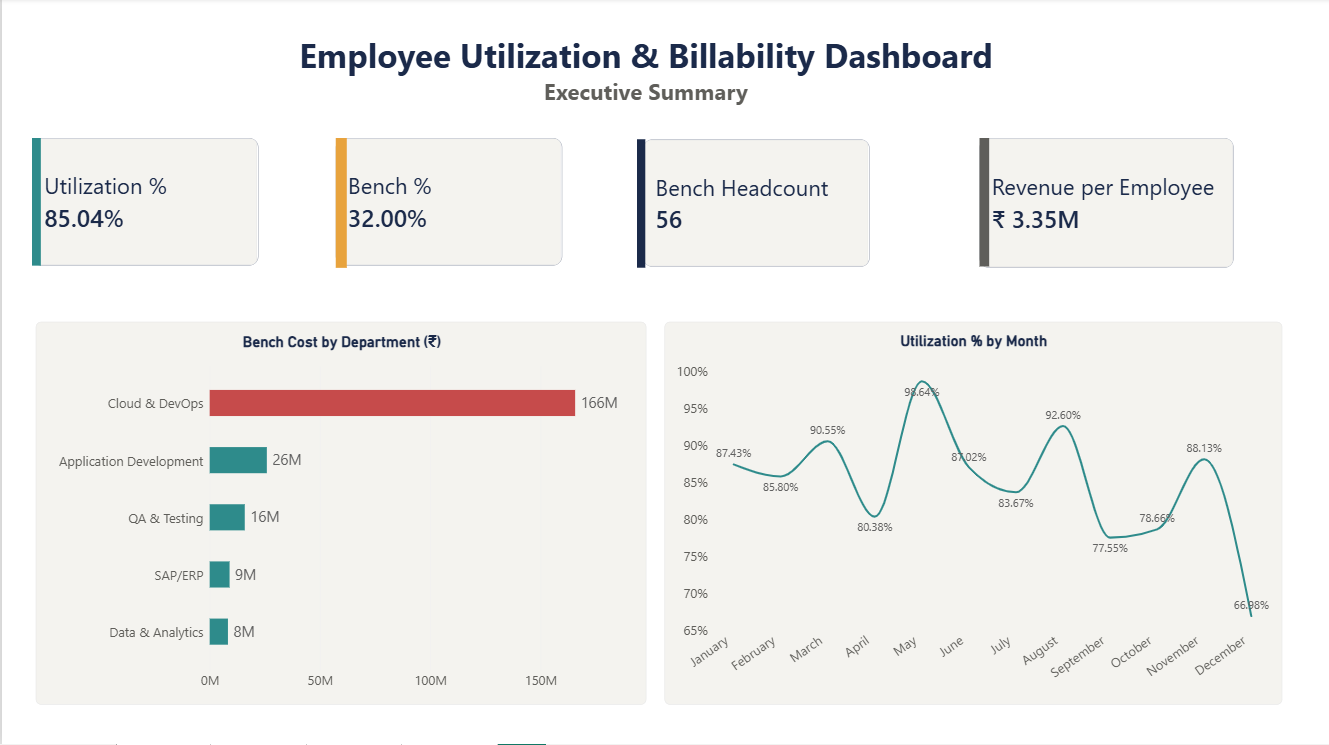

The dashboard page shown, as its layout file describes it:
{"tool":"powerbi","page":{"name":"Page 1","canvas":[1920,1080],"ordinal":0},"visuals":[{"type":"cardVisual","fields":{"Data":["Measure.Utilization %"]},"box":[42.6,201.9,327.8,185.2],"z":0},{"type":"clusteredBarChart","title":"Bench Cost by Department (₹)","fields":{"Category":["Employee.Department"],"Y":["Measure.Bench Cost"]},"box":[48,468,884,554],"z":1000},{"type":"textbox","box":[42.6,48.1,1777.8,137],"z":2000},{"type":"shape","box":[42.6,201.9,13,185.2],"z":3000},{"type":"cardVisual","fields":{"Data":["Measure.Bench %"]},"box":[484,202,327.8,185.2],"z":4000},{"type":"cardVisual","fields":{"Data":["Measure.Bench Headcount"]},"box":[928,204,327.8,185.2],"z":5000},{"type":"cardVisual","fields":{"Data":["Measure.Revenue per Employee"]},"box":[1416,202,368,188],"z":6000},{"type":"shape","box":[1416,202,14,186],"z":6002},{"type":"shape","box":[920,204,12,186],"z":6003},{"type":"shape","box":[484,202,16,188],"z":6004},{"type":"lineChart","fields":{"Category":["Allocation.AllocationStartDate.Variation.Date Hierarchy.Month"],"Y":["Measure.Utilization %"]},"box":[960,468,894,554],"z":6005}]}

Visuals, with their boxes in screenshot pixels (x1, y1, x2, y2), scaled from the page's 1920x1080 canvas onto the 1329x745 screenshot:
cardVisual - Measure.Utilization %: Rect(29, 139, 256, 267)
"Bench Cost by Department (₹)" clusteredBarChart: Rect(33, 323, 645, 705)
textbox: Rect(29, 33, 1260, 128)
shape: Rect(29, 139, 38, 267)
cardVisual - Measure.Bench %: Rect(335, 139, 562, 267)
cardVisual - Measure.Bench Headcount: Rect(642, 141, 869, 268)
cardVisual - Measure.Revenue per Employee: Rect(980, 139, 1235, 269)
shape: Rect(980, 139, 990, 268)
shape: Rect(637, 141, 645, 269)
shape: Rect(335, 139, 346, 269)
lineChart - Allocation.AllocationStartDate.Variation.Date Hierarchy.Month x Measure.Utilization %: Rect(664, 323, 1283, 705)
